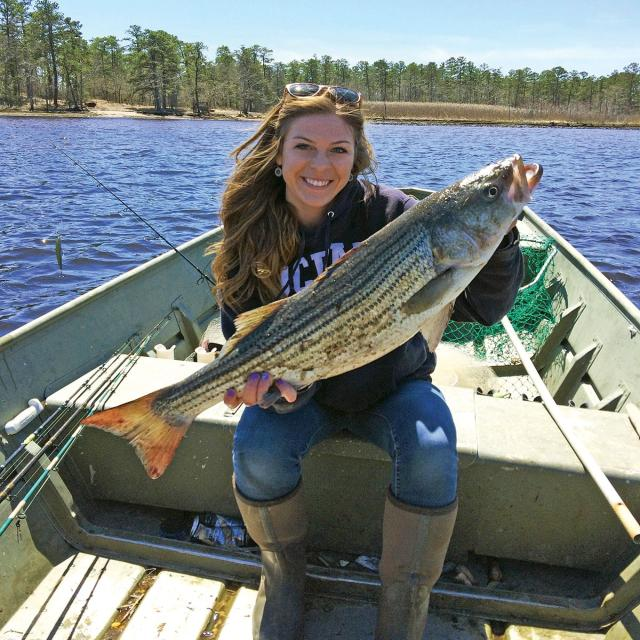Bass - Striped: (83, 155, 542, 478)
